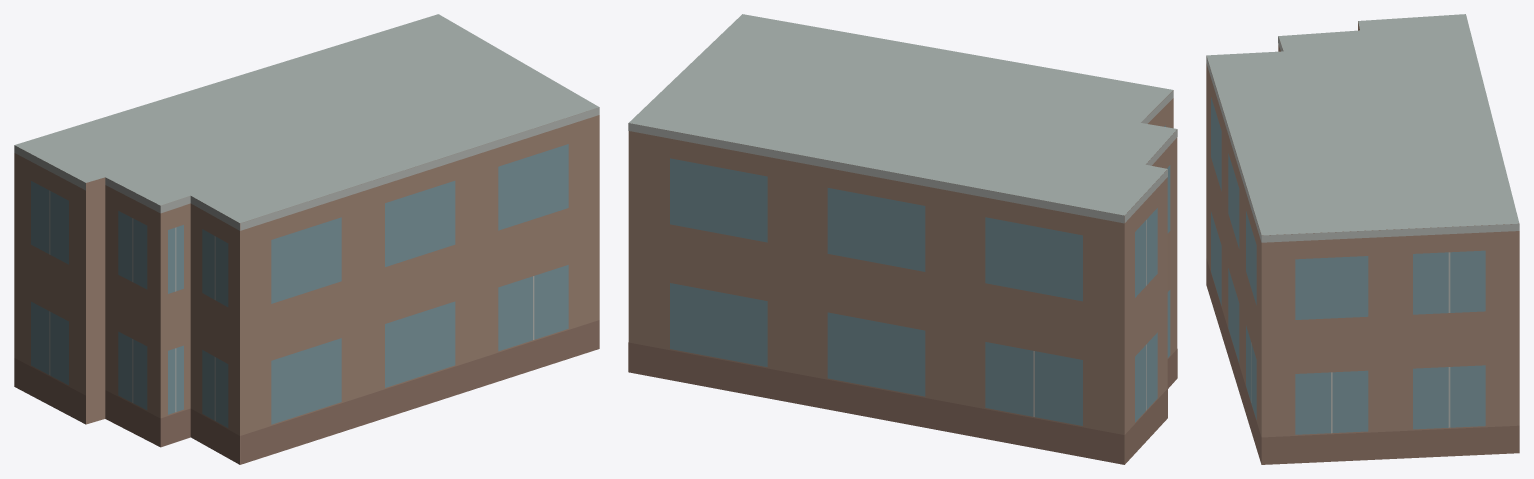
File: survey-upis-32621800.glb
3 renders of one model, left to right at view 1: azimuth 30°, elevation 25°; view 2: azimuth 150°, elevation 25°; view 3: azimuth 270°, elevation 25°, orthographic. The views are drawn at different scales.
Visible parts, largest first — view 1: survey-upis-32621800.tmp; view 2: survey-upis-32621800.tmp; view 3: survey-upis-32621800.tmp.
Boxes of the visible parts, box(x1,y1,x2,y2) form: survey-upis-32621800.tmp: box(14, 14, 599, 464); survey-upis-32621800.tmp: box(628, 14, 1177, 464); survey-upis-32621800.tmp: box(1206, 14, 1519, 464).
Bounding box in the file's own units: 15.95 × 7.7 × 9.54.
